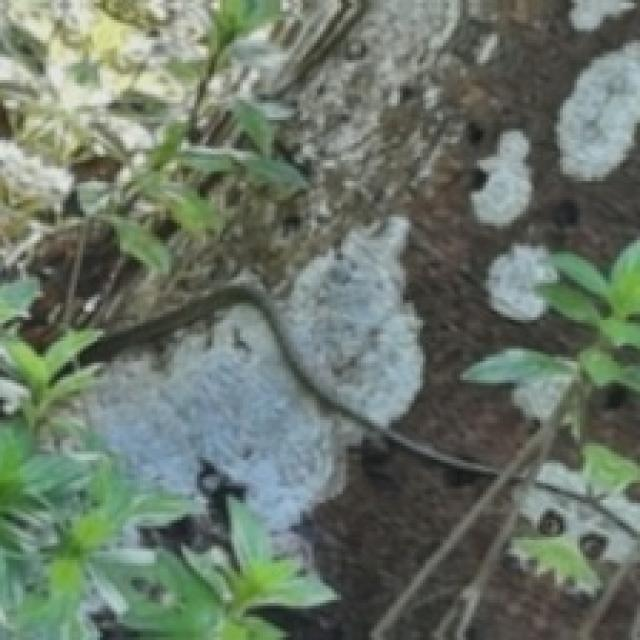paradise tree snake: (86, 282, 498, 476)
